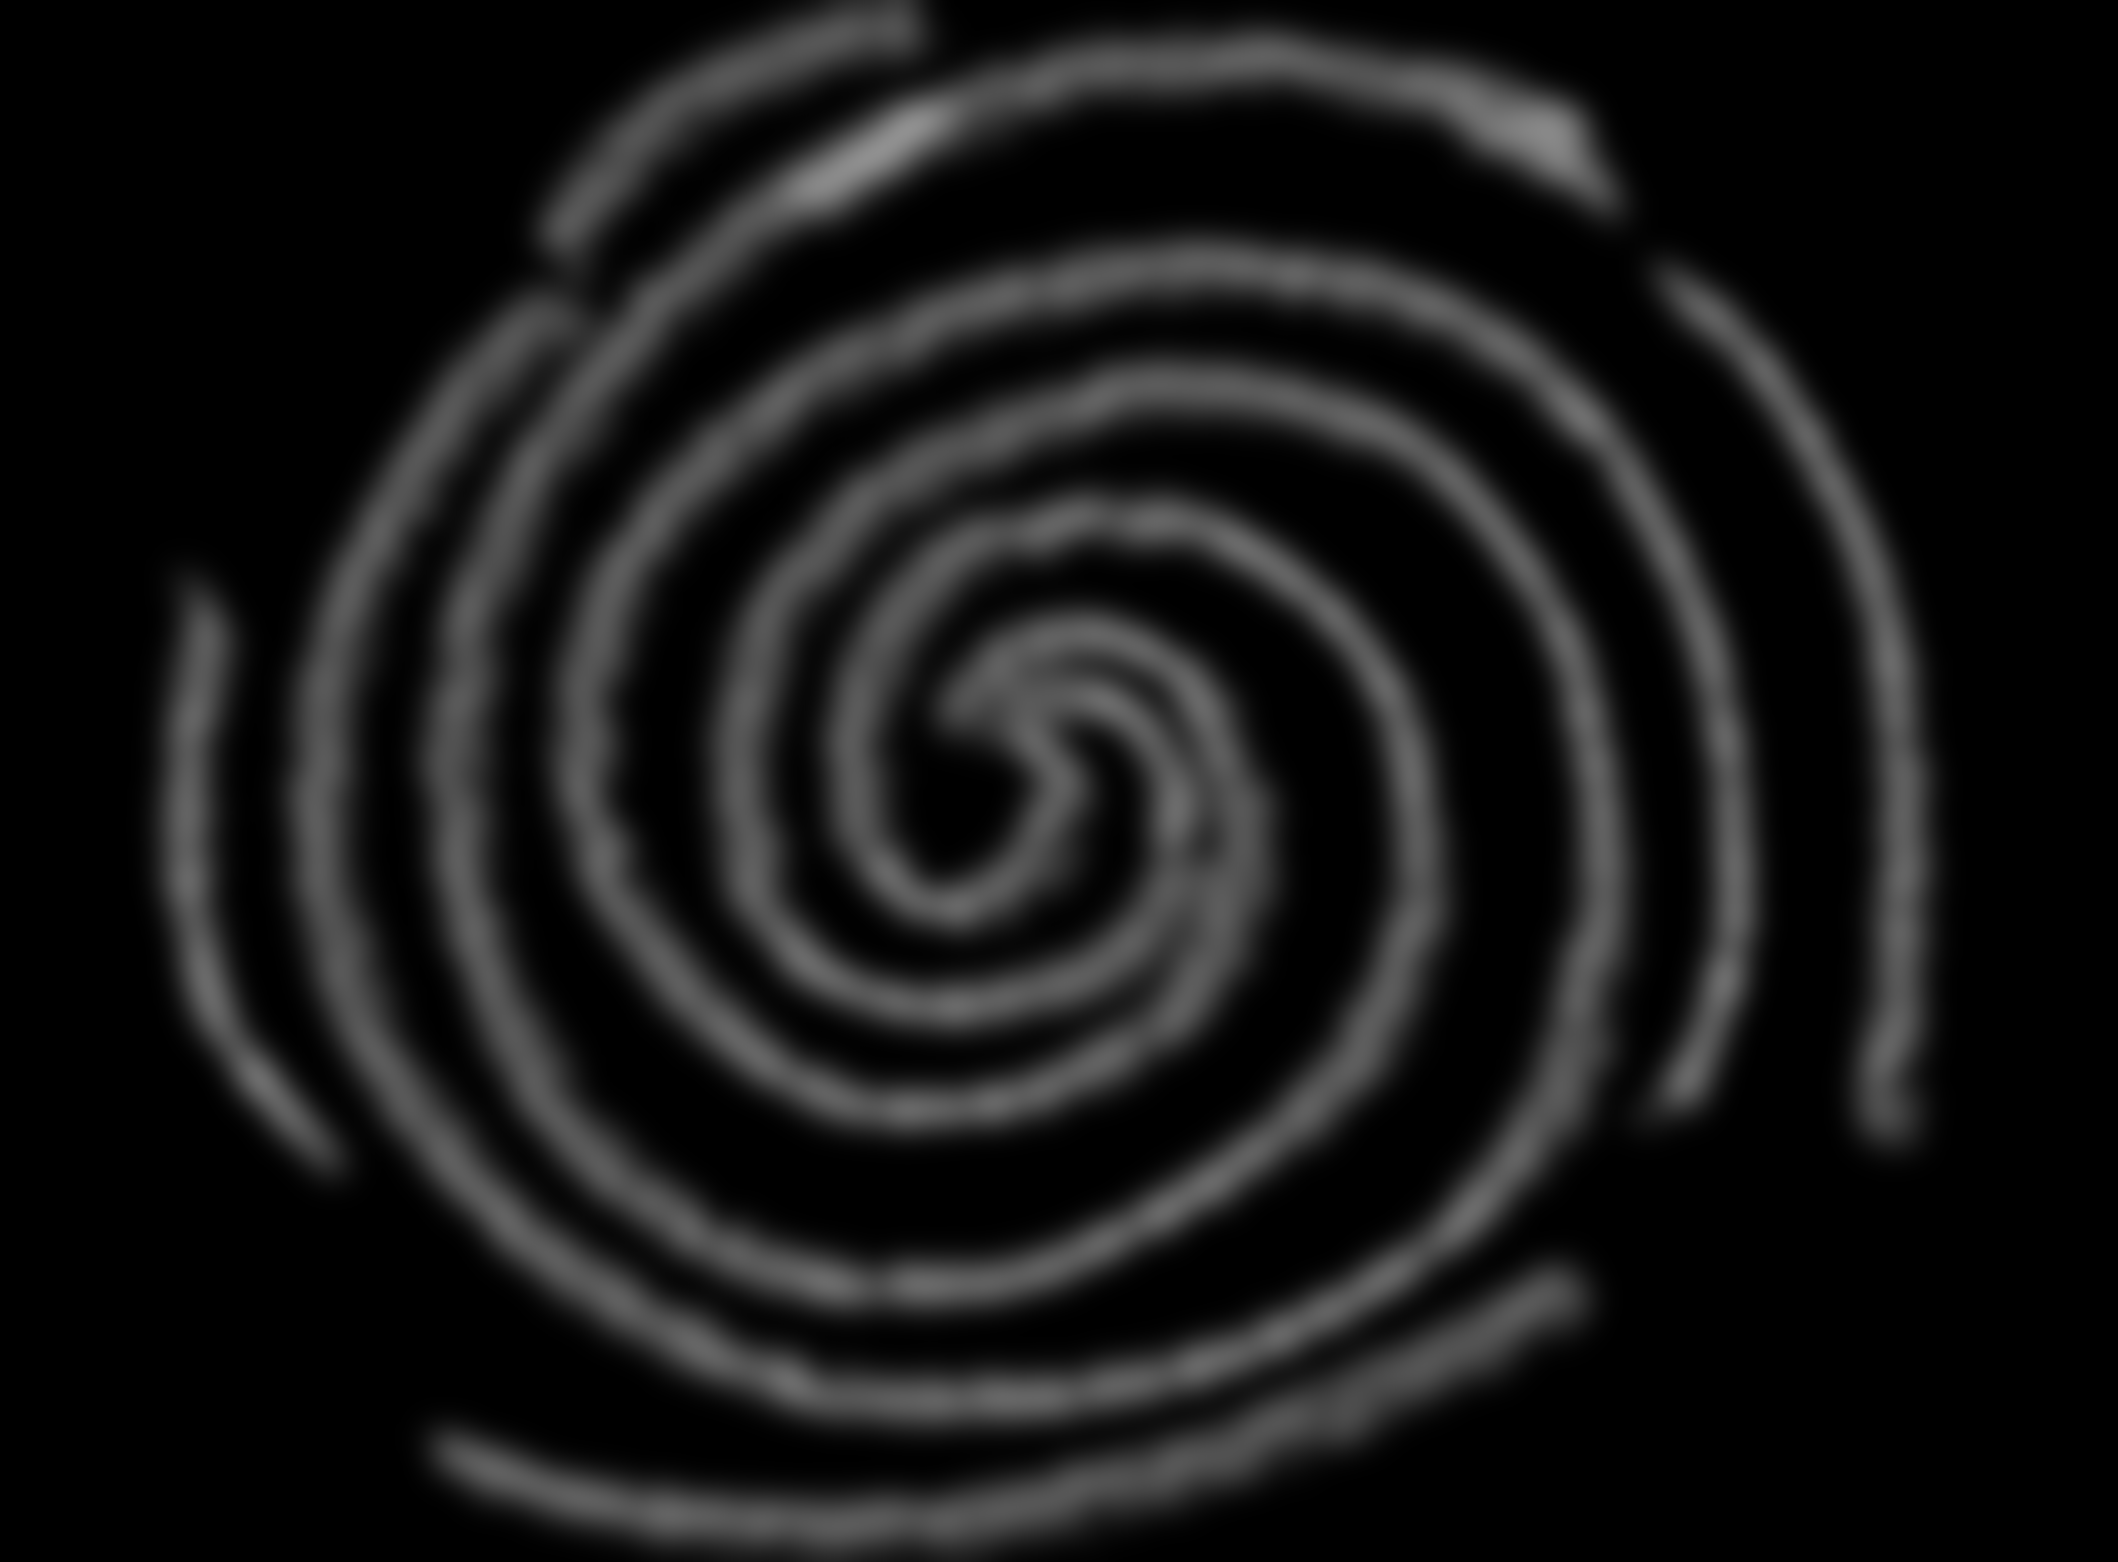vortex: (87, 16, 2016, 1547)
